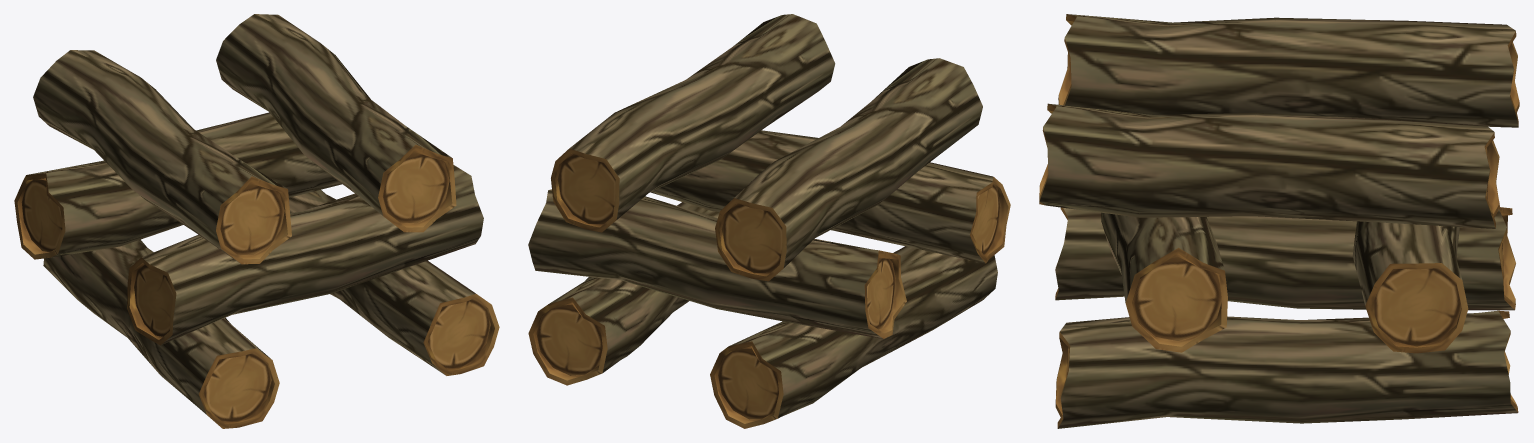
Rendered from Campfire01.fbx.
3 renders of one model, left to right at view 1: azimuth 30°, elevation 25°; view 2: azimuth 150°, elevation 25°; view 3: azimuth 270°, elevation 25°, orthographic. The views are drawn at different scales.
Parts seen in each view (by area): view 1: Campfire01_LOD0; view 2: Campfire01_LOD0; view 3: Campfire01_LOD0.
Boxes of the visible parts, x1,y1,x2,y2 form: Campfire01_LOD0: (14,14,499,428); Campfire01_LOD0: (528,14,1010,428); Campfire01_LOD0: (1039,14,1519,428).
Size of what is drawn, in the model's own units: 44.87 by 30.25 by 45.74.
